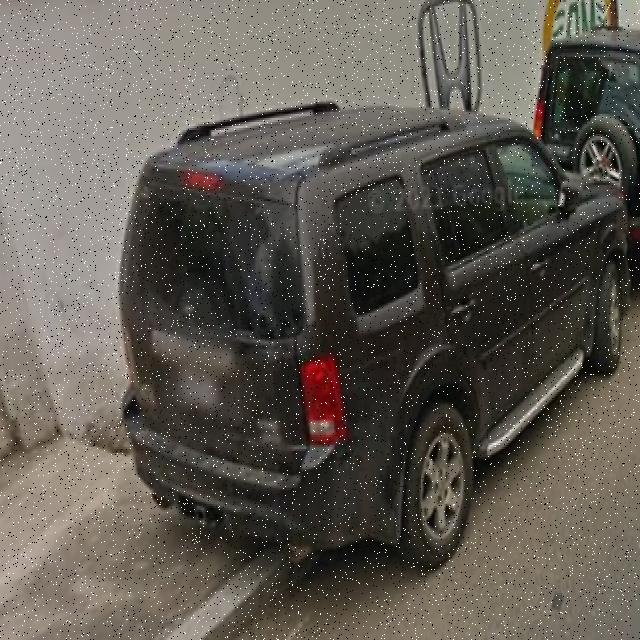cars: (117, 101, 636, 569)
